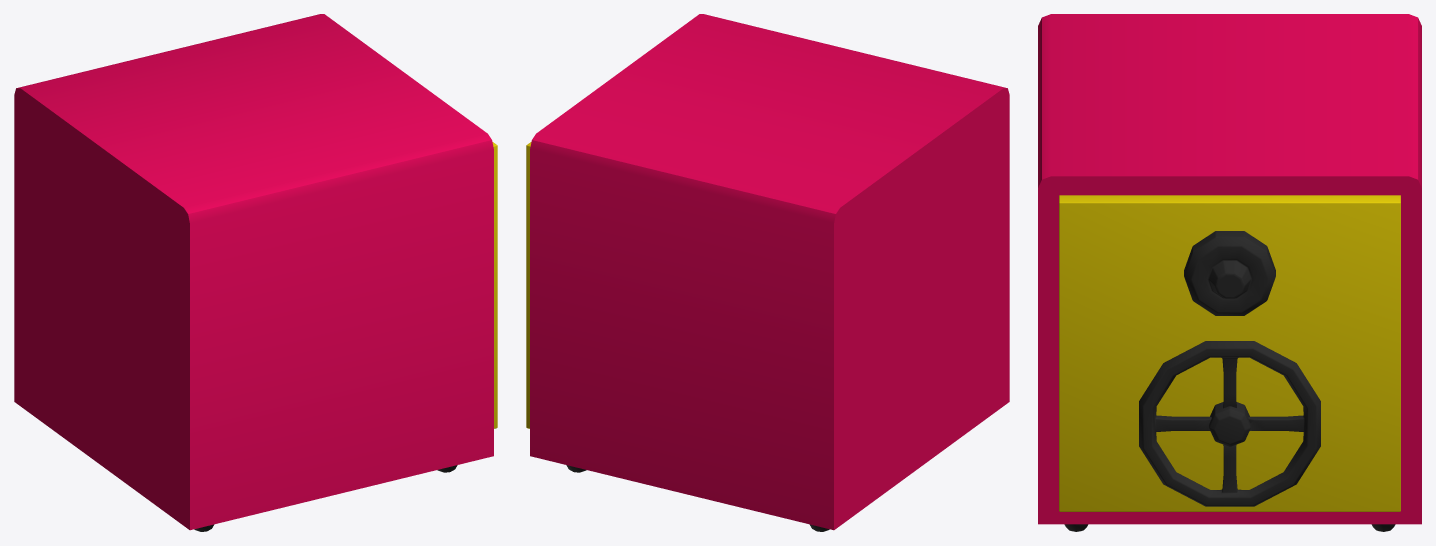
The model's file is CRUS_SAFE.glb.
3 renders of one model, left to right at view 1: azimuth 30°, elevation 25°; view 2: azimuth 150°, elevation 25°; view 3: azimuth 270°, elevation 25°, orthographic. The views are drawn at different scales.
Parts seen in each view (by area): view 1: CASE-COL, DOOR-COL; view 2: CASE-COL, DOOR-COL; view 3: DOOR-COL, CASE-COL.
Boxes of the visible parts, x1,y1,x2,y2 form: CASE-COL: (14, 14, 493, 531); DOOR-COL: (492, 142, 497, 428); CASE-COL: (530, 14, 1009, 531); DOOR-COL: (526, 142, 531, 428); DOOR-COL: (1059, 195, 1400, 511); CASE-COL: (1038, 14, 1421, 531).
Size of the model in its own units: 2.34 by 2.12 by 2.
